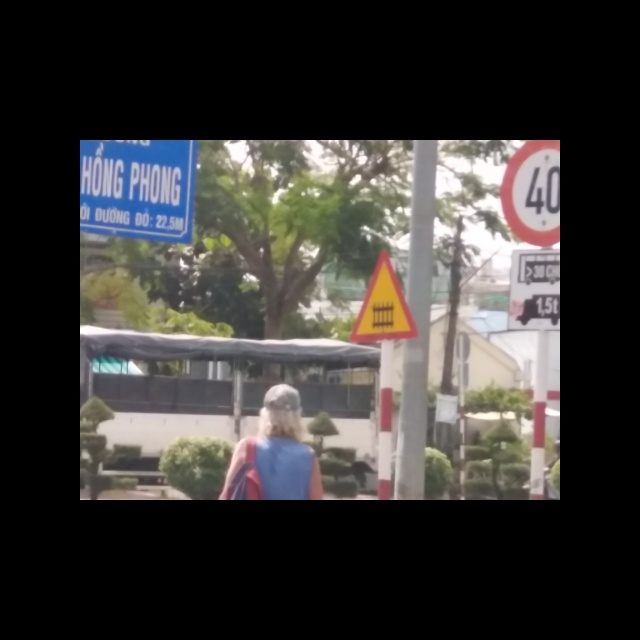Giao nhau với đường sắt có rào chắn: (345, 250, 416, 343)
